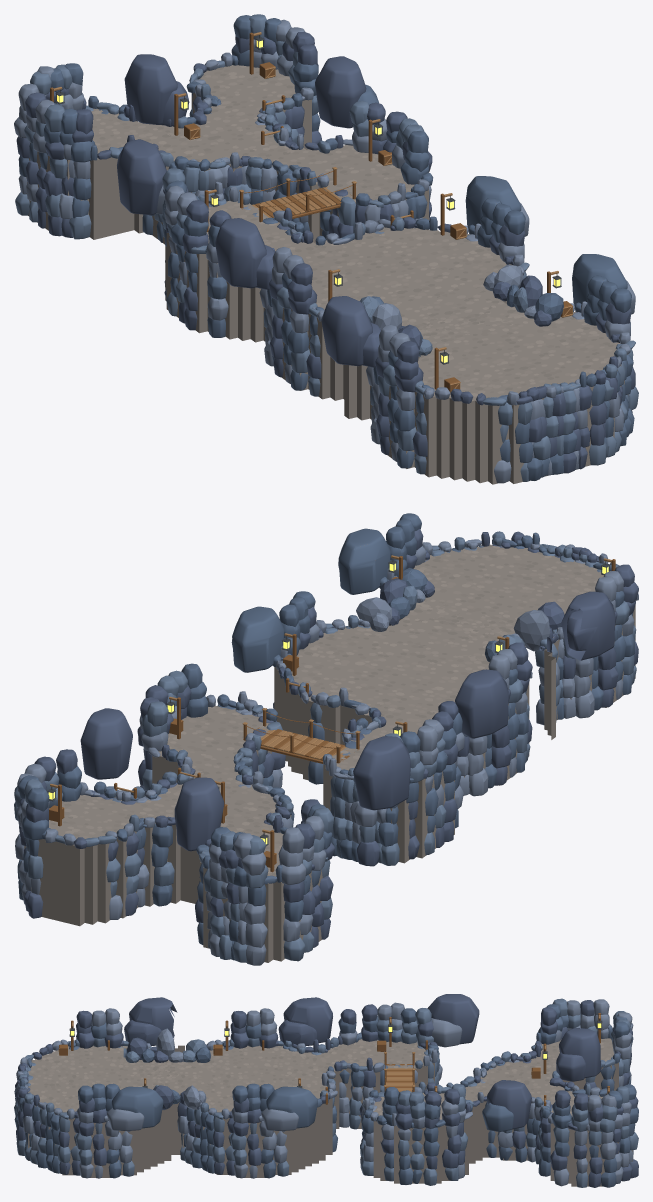
The model's file is reference_cavern.glb.
The picture shows the model from 3 angles, top to bottom: view 1: azimuth 30°, elevation 25°; view 2: azimuth 150°, elevation 25°; view 3: azimuth 270°, elevation 25°; orthographic projection. The views are drawn at different scales.
Parts seen in each view (by area): view 1: Cavern_architecture, Original_room_extension, Walkable_ground, Original_floor_extension, Original_floor_blend, Original_paving_blend; view 2: Cavern_architecture, Walkable_ground, Original_room_extension, Original_floor_extension, Original_floor_blend, Original_paving_blend, Closed_back_rock_-1_1; view 3: Cavern_architecture, Original_room_extension, Walkable_ground, Original_floor_extension, Original_floor_blend, Original_paving_blend, Closed_back_rock_-1_1, Closed_back_rock_1_0, Closed_back_rock_1_1.
Boxes of the visible parts, bbox=[...] form: Cavern_architecture: bbox=[14, 14, 529, 396]; Original_room_extension: bbox=[321, 254, 638, 483]; Walkable_ground: bbox=[26, 65, 525, 400]; Original_floor_extension: bbox=[344, 307, 628, 484]; Original_floor_blend: bbox=[400, 291, 526, 342]; Original_paving_blend: bbox=[399, 290, 528, 343]; Cavern_architecture: bbox=[14, 591, 532, 965]; Walkable_ground: bbox=[24, 625, 529, 962]; Original_room_extension: bbox=[338, 513, 638, 725]; Original_floor_extension: bbox=[399, 545, 635, 739]; Original_floor_blend: bbox=[387, 602, 515, 653]; Original_paving_blend: bbox=[387, 601, 514, 656]; Closed_back_rock_-1_1: bbox=[513, 610, 550, 651]; Cavern_architecture: bbox=[177, 994, 638, 1187]; Original_room_extension: bbox=[14, 997, 190, 1178]; Walkable_ground: bbox=[178, 1038, 632, 1186]; Original_floor_extension: bbox=[21, 1045, 184, 1177]; Original_floor_blend: bbox=[144, 1062, 198, 1094]; Original_paving_blend: bbox=[137, 1061, 205, 1092]; Closed_back_rock_-1_1: bbox=[156, 1028, 174, 1056]; Closed_back_rock_1_0: bbox=[183, 1085, 200, 1109]; Closed_back_rock_1_1: bbox=[153, 1085, 174, 1109].
Size of the model in its own units: 26.72 by 12.13 by 68.75.
